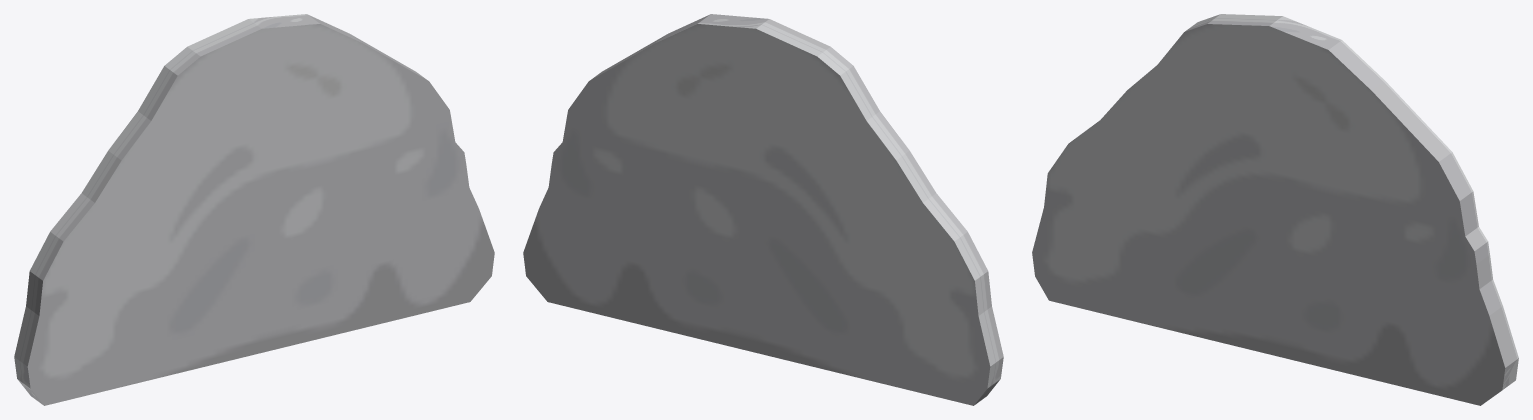
Rendered from stone01.FBX.
3 views of the same model, side by side, from view 1: azimuth 30°, elevation 25°; view 2: azimuth 150°, elevation 25°; view 3: azimuth 330°, elevation 25° (orthographic).
Parts seen in each view (by area): view 1: Box004; view 2: Box004; view 3: Box004.
Boxes of the visible parts, left/top/right/bottom form: Box004: left=14, top=14, right=494, bottom=405; Box004: left=523, top=14, right=1003, bottom=405; Box004: left=1032, top=14, right=1518, bottom=405.
Size of the model in its own units: 25.7 by 17.04 by 1.28.
1 material, 1 textured.
